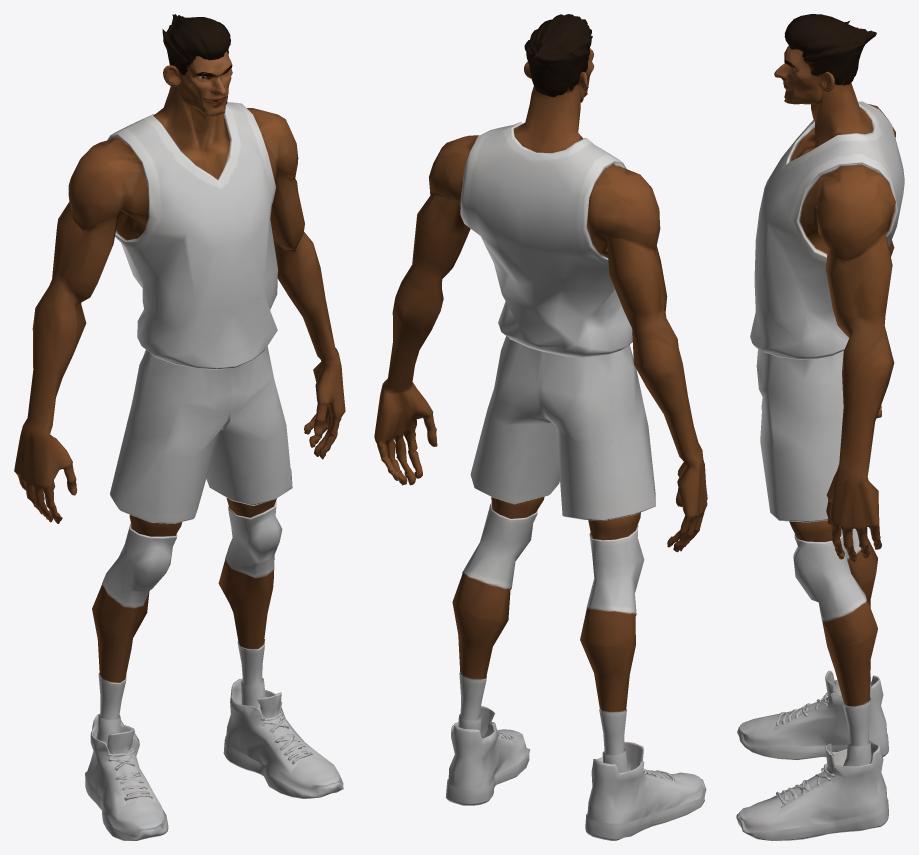
The model's file is big.glb.
3 views of the same model, side by side, from view 1: azimuth 30°, elevation 25°; view 2: azimuth 150°, elevation 25°; view 3: azimuth 270°, elevation 25° (orthographic).
Visible parts, largest first — view 1: geometry_0; view 2: geometry_0; view 3: geometry_0.
Boxes of the visible parts, x1,y1,x2,y2 form: geometry_0: [14, 14, 345, 840]; geometry_0: [374, 14, 707, 840]; geometry_0: [736, 14, 904, 840].
Size of the model in its own units: 0.4116 by 0.9507 by 0.1885.
Materials: 1 (1 with a texture image).
